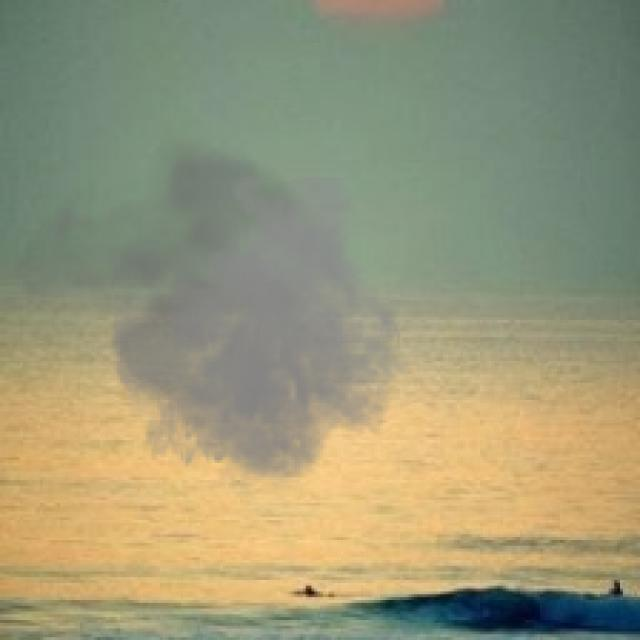smoke: (6, 131, 411, 506)
